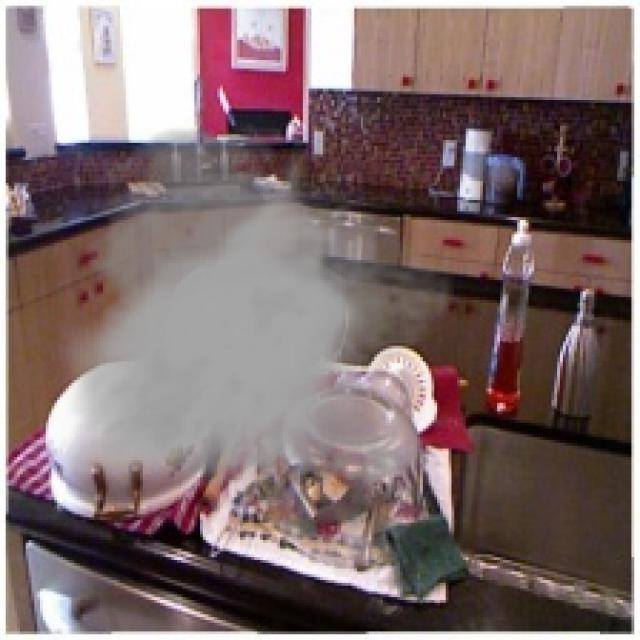smoke: (52, 123, 454, 497)
